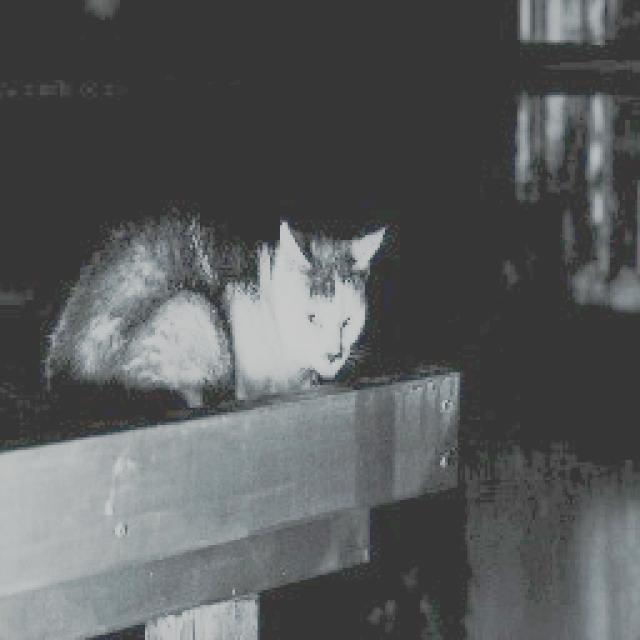cat: (36, 190, 383, 408)
